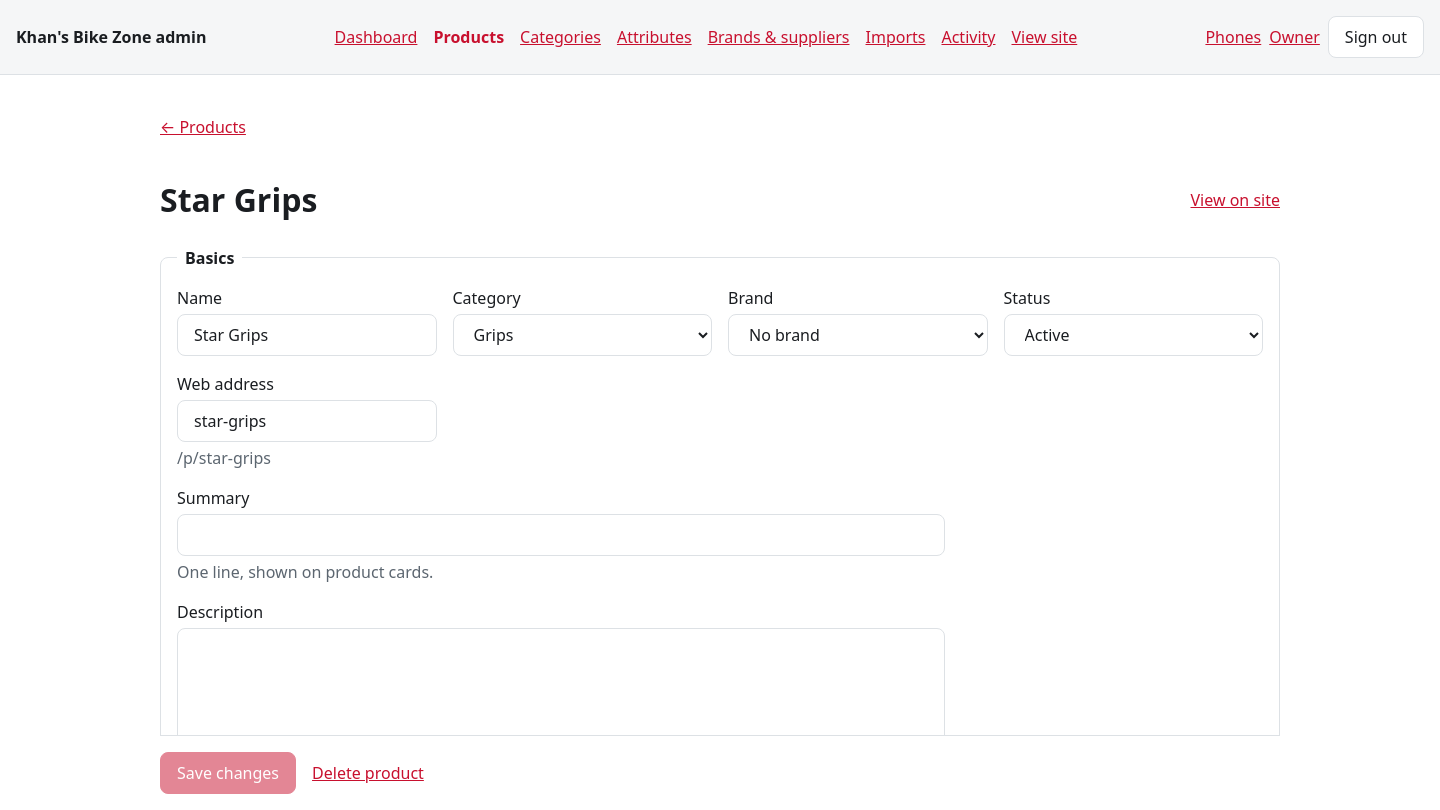
Test: product editor › sends the ETag back and, if someone else saved first, offers their version
Replace the text in the field showing "Star Grips" with "My name" at [307, 335], box [177,314,436,356]
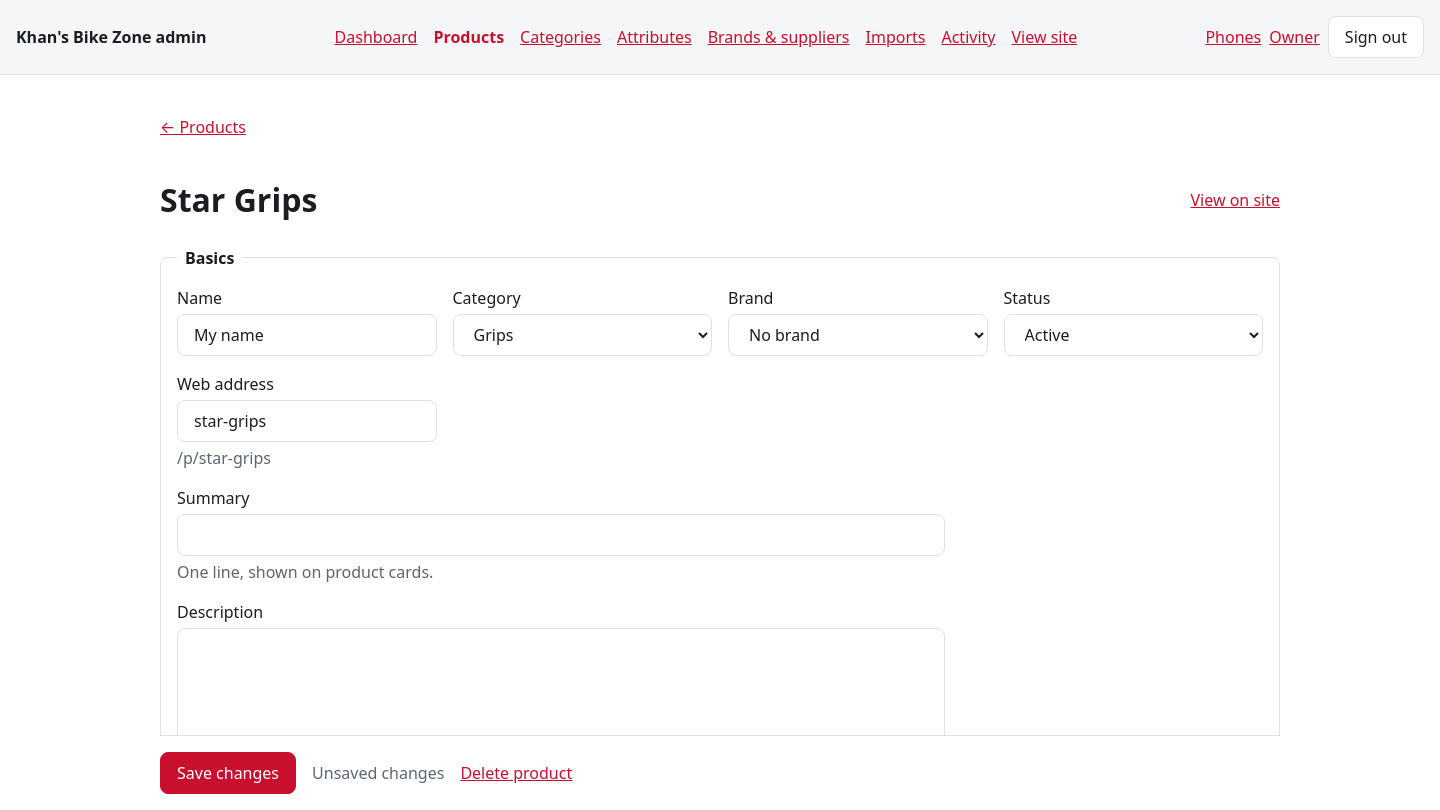
Click the button "Save changes".
click(228, 773)  # box [160,752,296,794]
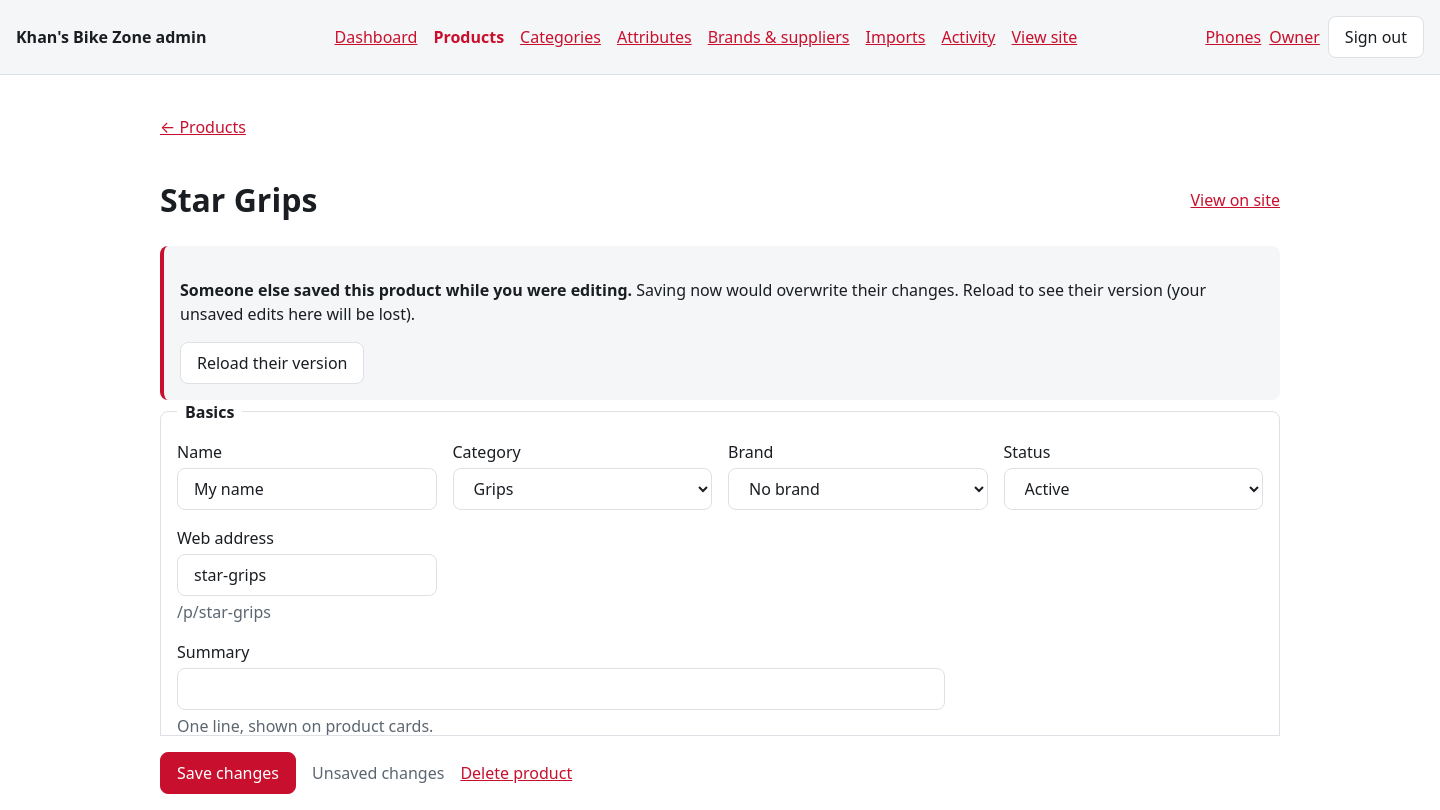
Check: the text "Someone else saved this product while you were editing." is shown, box [180,279,632,301]
Click the button "Reload their version".
click(272, 363)  # box [180,342,364,384]
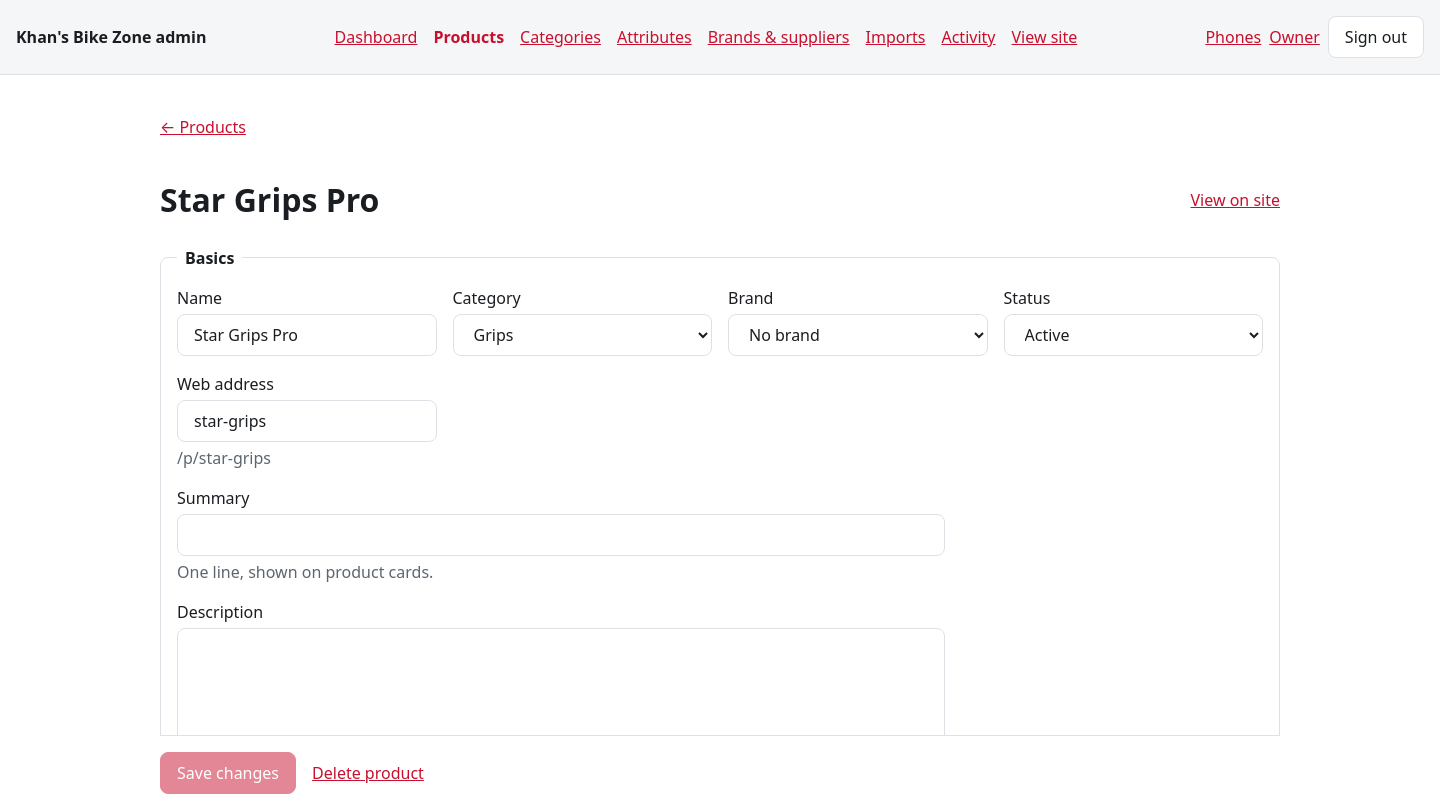
Check: the field showing "Star Grips Pro" is shown, box [177,314,436,356]
Check: the text "Someone else saved" is gone
